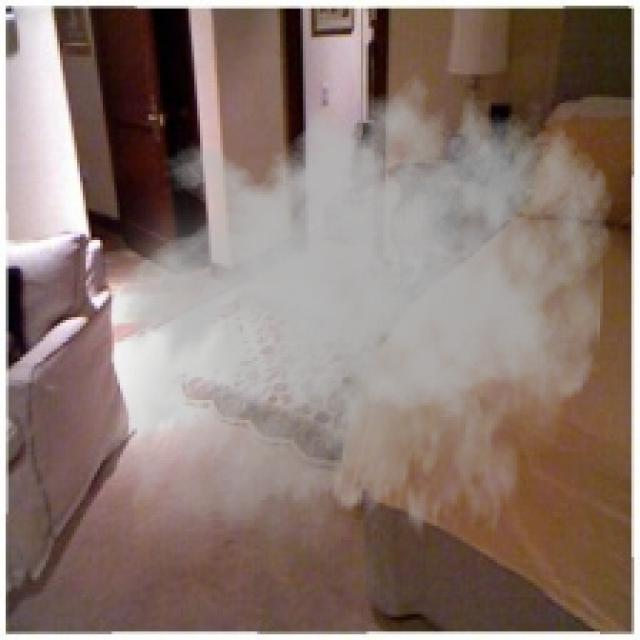smoke: (75, 57, 614, 594)
